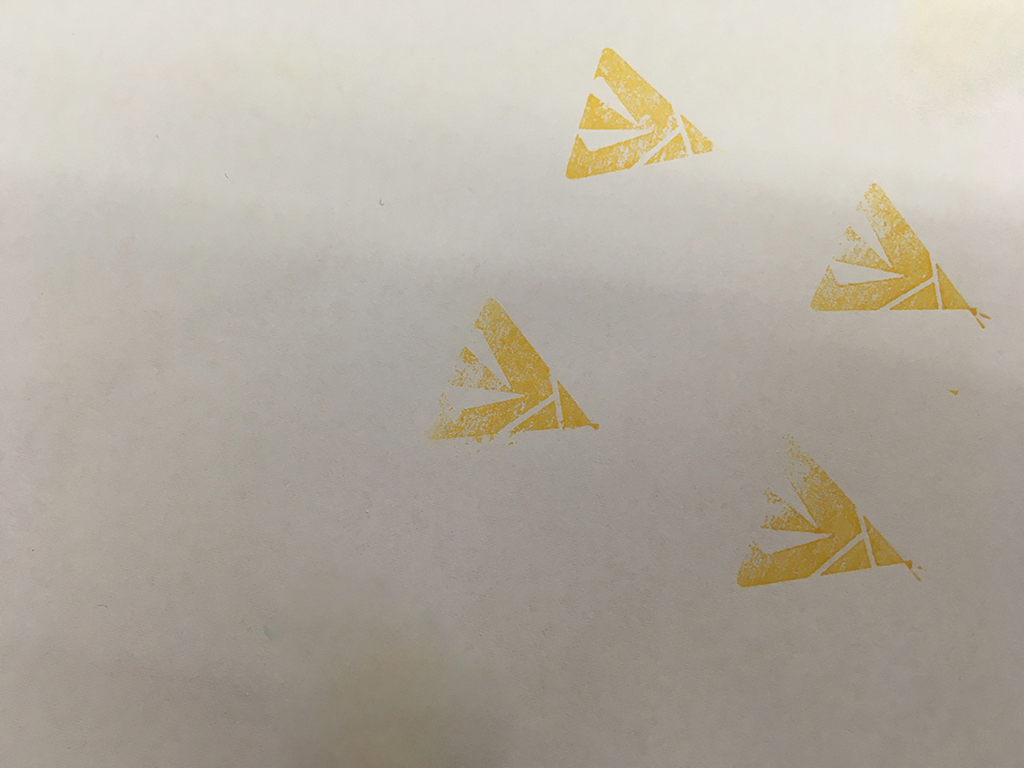tent: (720, 426, 935, 589), (801, 173, 1003, 335), (428, 296, 602, 444), (563, 42, 727, 192)
